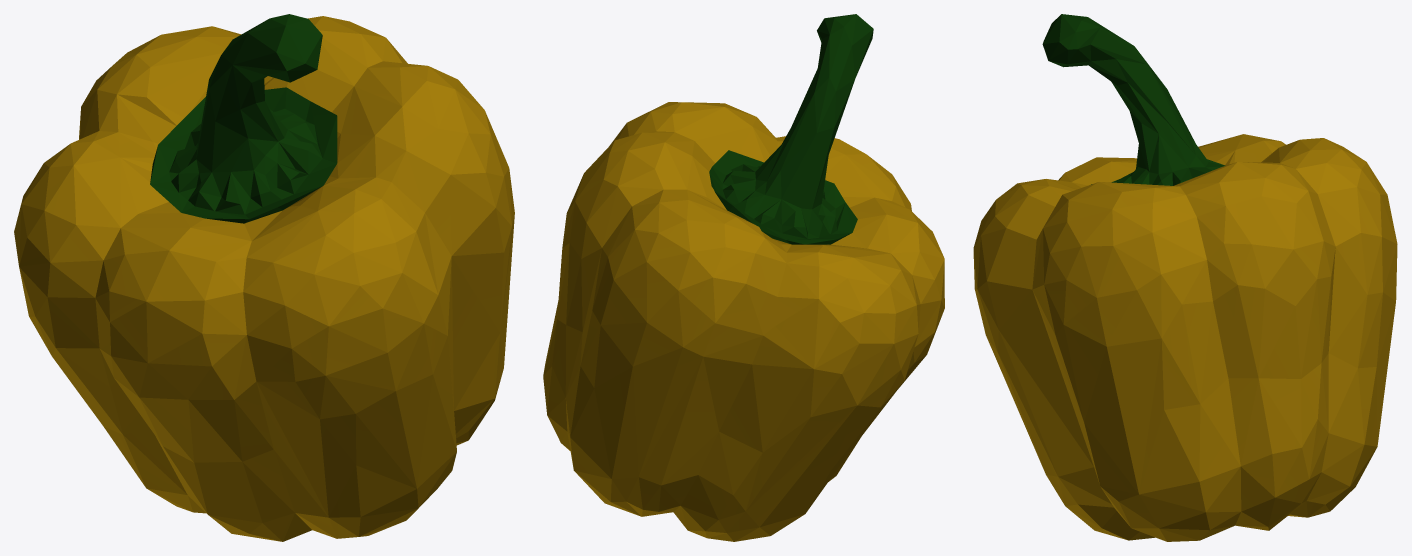
Rendered from BellPepperYellow_lowpoly.obj.
3 views of the same model, side by side, from view 1: azimuth 30°, elevation 25°; view 2: azimuth 150°, elevation 25°; view 3: azimuth 270°, elevation 25° (orthographic). The views are drawn at different scales.
Visible parts, largest first — view 1: Mesh1.001; view 2: Mesh1.001; view 3: Mesh1.001.
Boxes of the visible parts, x1=… form: Mesh1.001: x1=14, y1=14, x2=514, y2=541; Mesh1.001: x1=543, y1=14, x2=944, y2=541; Mesh1.001: x1=973, y1=14, x2=1397, y2=541.
Size of the model in its own units: 0.7839 by 0.9932 by 0.7877.
